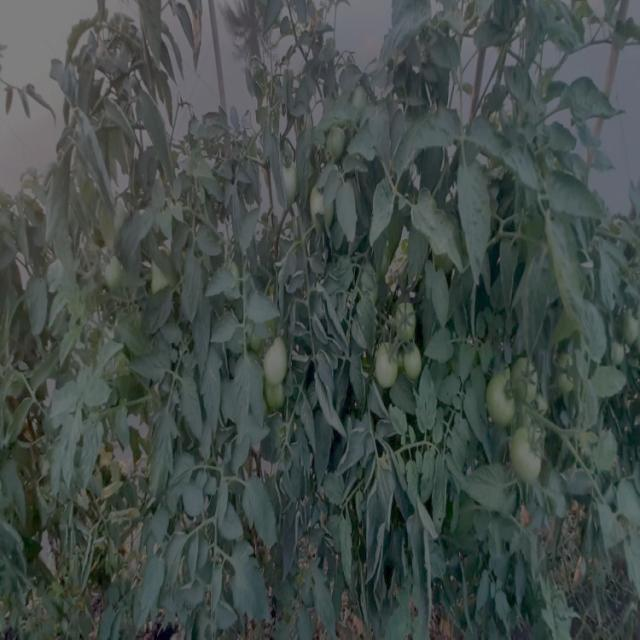tomato: (509, 419, 544, 482), (485, 367, 515, 421), (259, 336, 292, 383), (370, 341, 401, 389), (513, 355, 540, 406), (391, 300, 423, 338), (557, 353, 583, 398), (308, 185, 334, 227), (617, 302, 640, 348), (102, 253, 127, 295), (400, 342, 426, 381), (279, 157, 301, 202), (323, 123, 350, 158), (263, 384, 288, 413), (350, 85, 373, 111)
